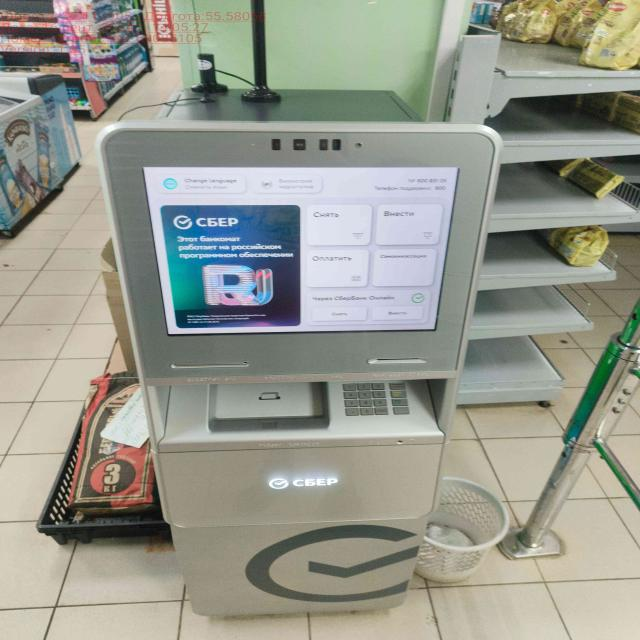bank: (100, 83, 498, 624)
